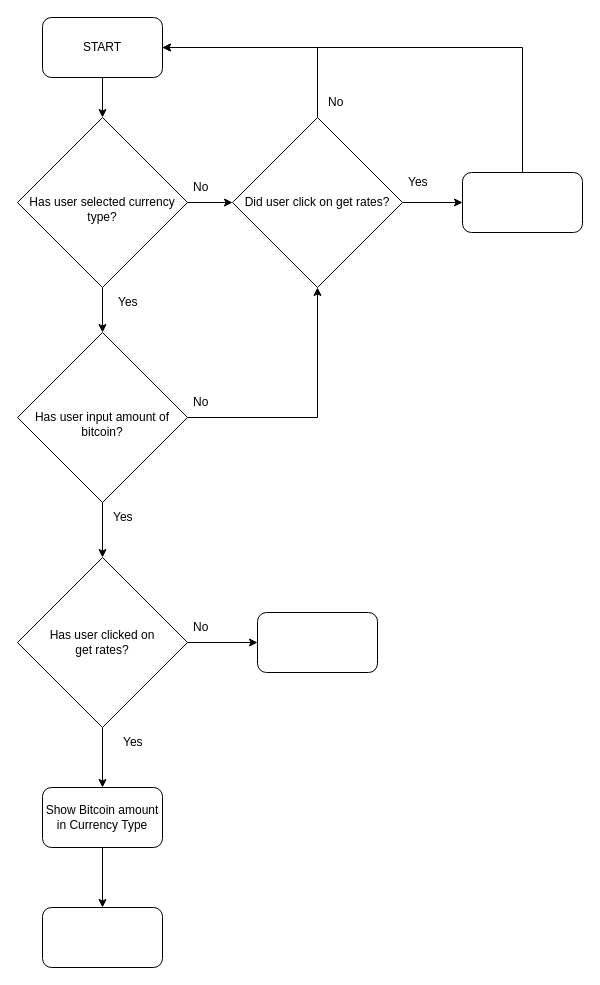
Image size: 600x985. Some labels were removed from this diagram. The box of each missing label's shape, as (x1, y1, x2, y2) in pixels:
Does not display bitcoin amount in currency type: (462, 172, 582, 232)
END: (42, 906, 162, 968)
Wait until user clicks on get rates: (256, 612, 378, 672)
